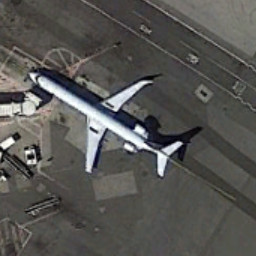Airplane: (23, 52, 187, 186)
